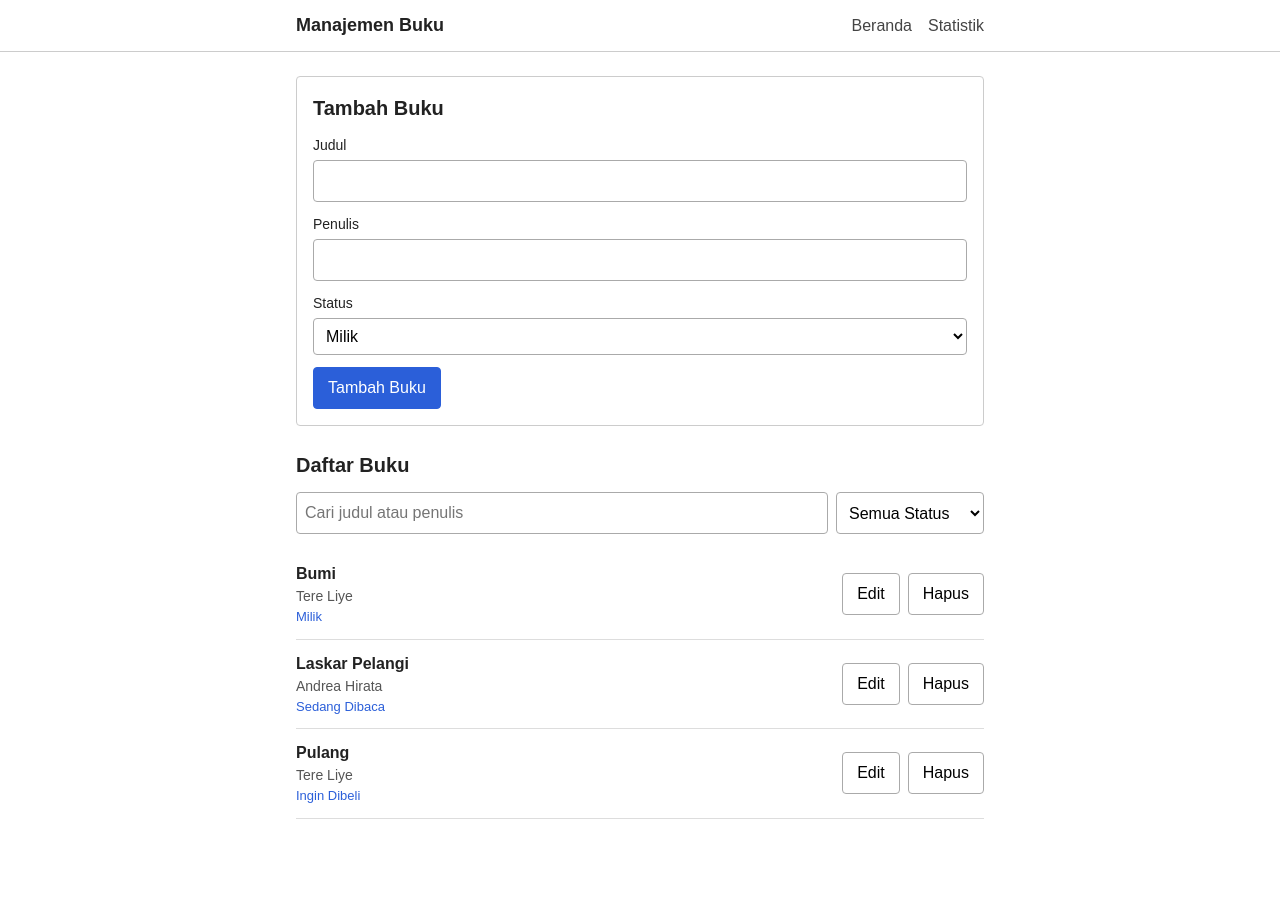
it: Aplikasi Manajemen Buku › mengedit buku
Click the button "Edit" in the row of "Bumi": point(871, 594) x1=842 y1=573 x2=900 y2=615
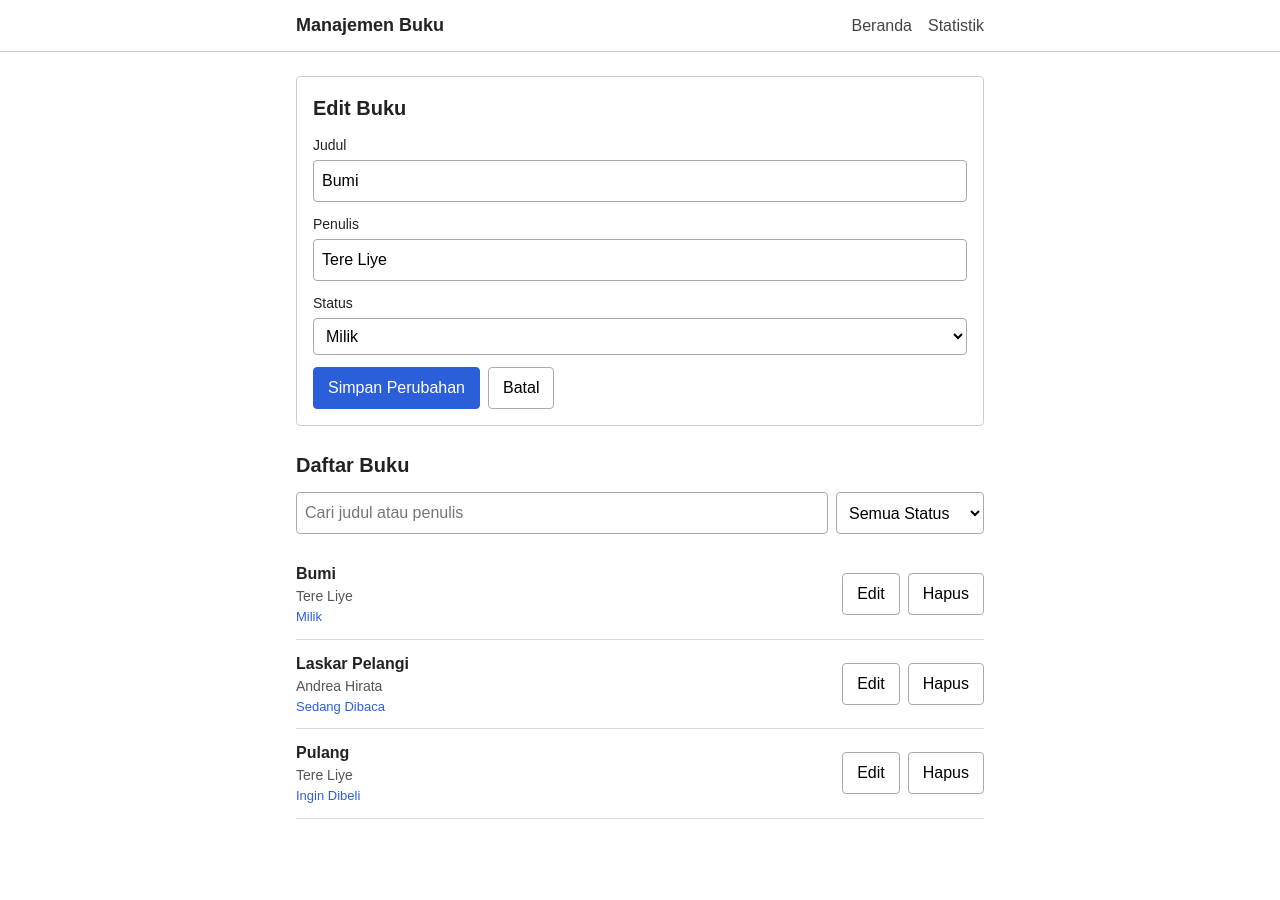
Replace the text in the field labelled "Judul" with "Bumi (Edisi Baru)": point(640, 181) x1=313 y1=160 x2=967 y2=202
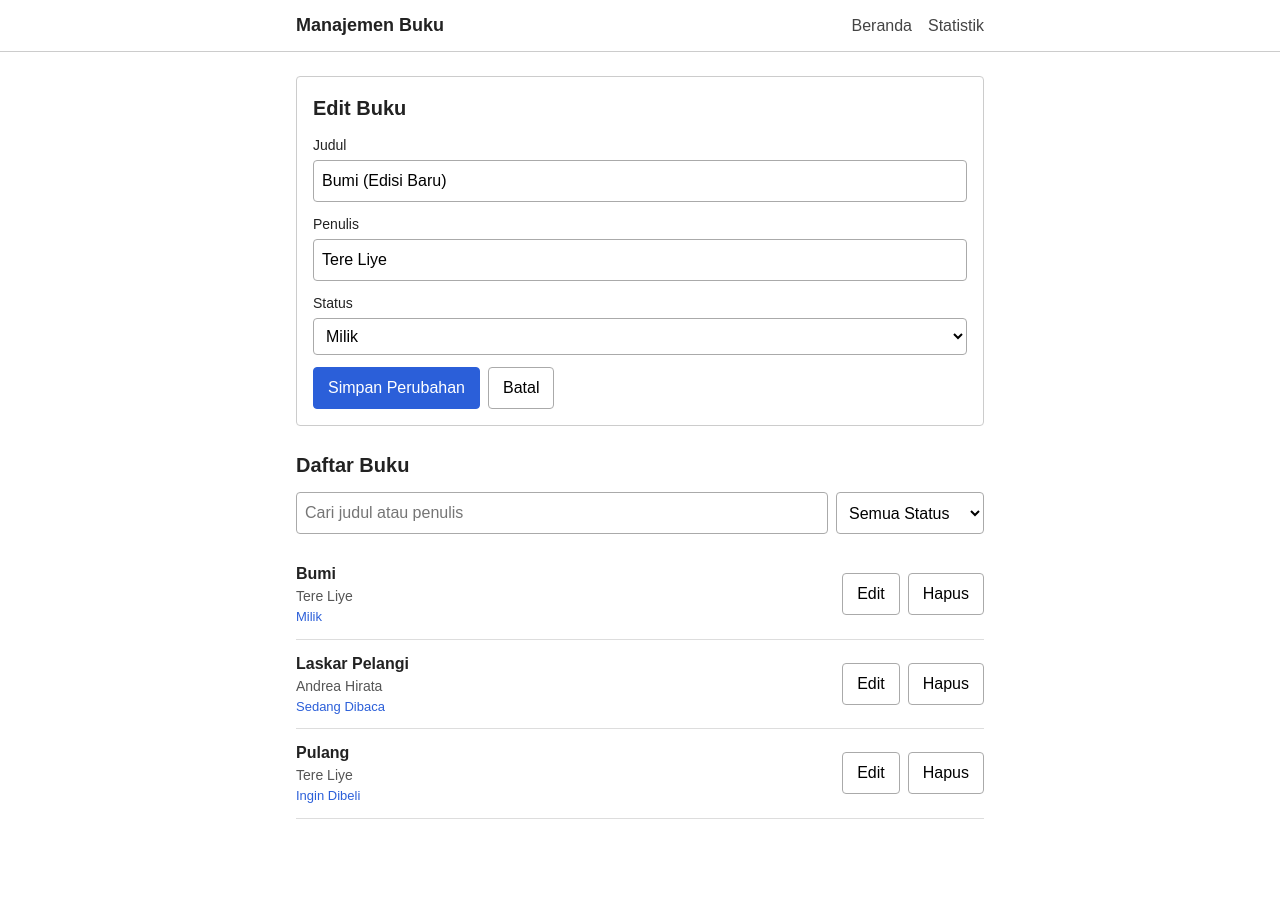
Click the button "Simpan Perubahan": point(396, 388) x1=313 y1=367 x2=480 y2=409
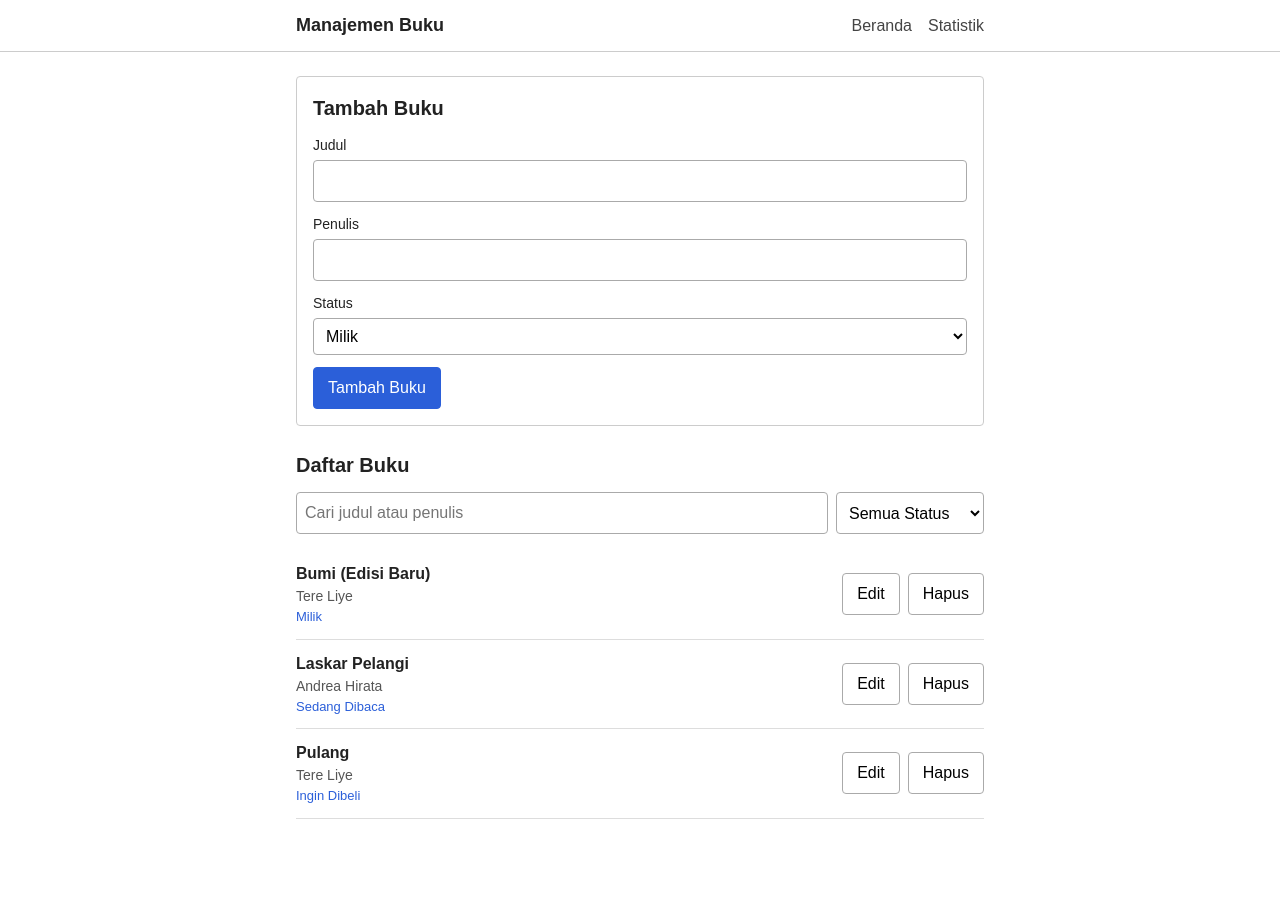
Now the text "Bumi (Edisi Baru)" is shown, box x1=296 y1=562 x2=430 y2=586
